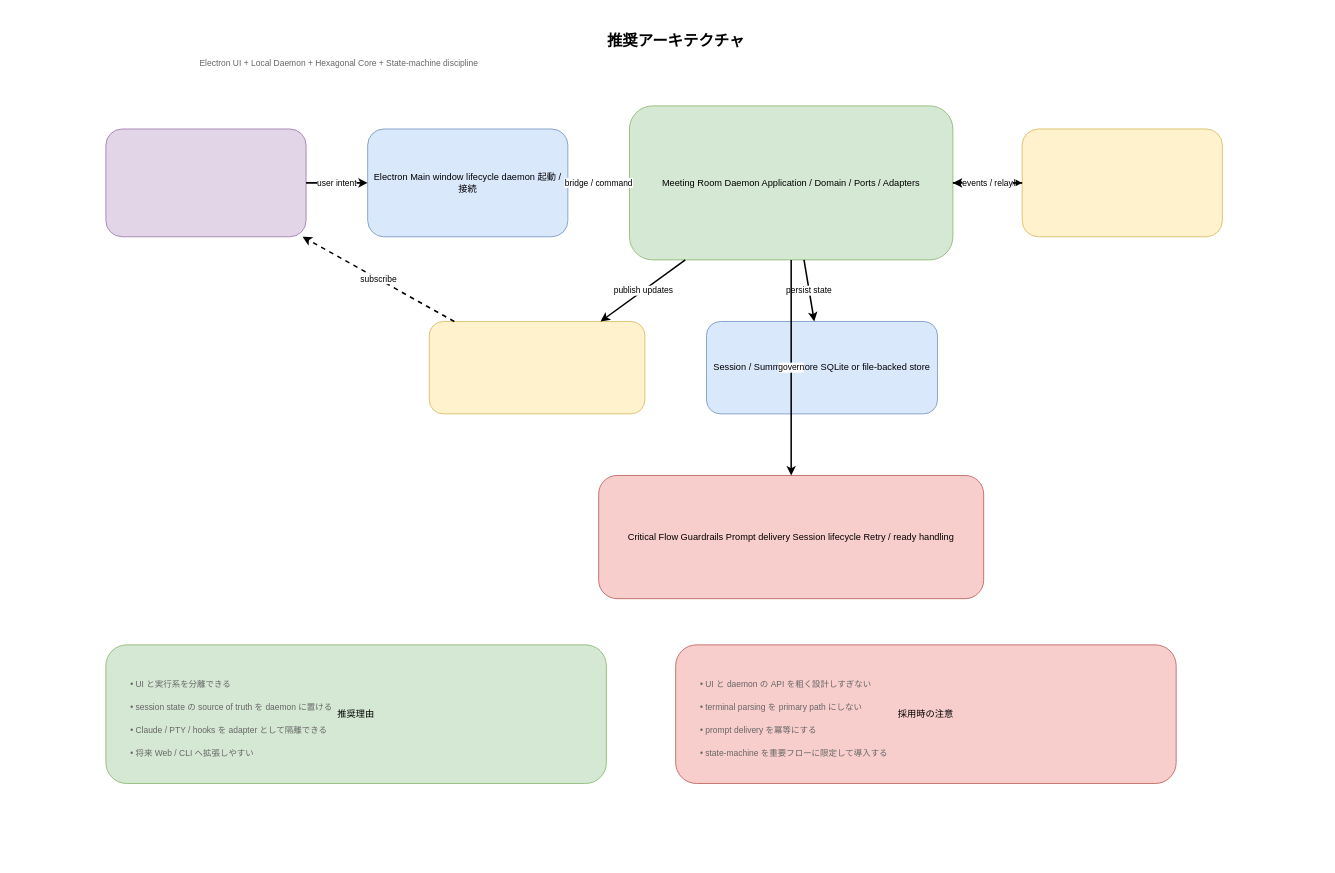
Some shapes in this 1335 by 873 pixel diagram are drawn without their labels. Here are the shapes that lost their labels. From the top down, the centre of each, then its label:
At [205,182]: "Electron Renderer 画面表示 ユーザー入力".
At [1121,182]: "Claude Runtime Claude Code / subagents / MCP".
At [537,367]: "Event Publisher WebSocket / telemetry / health".
